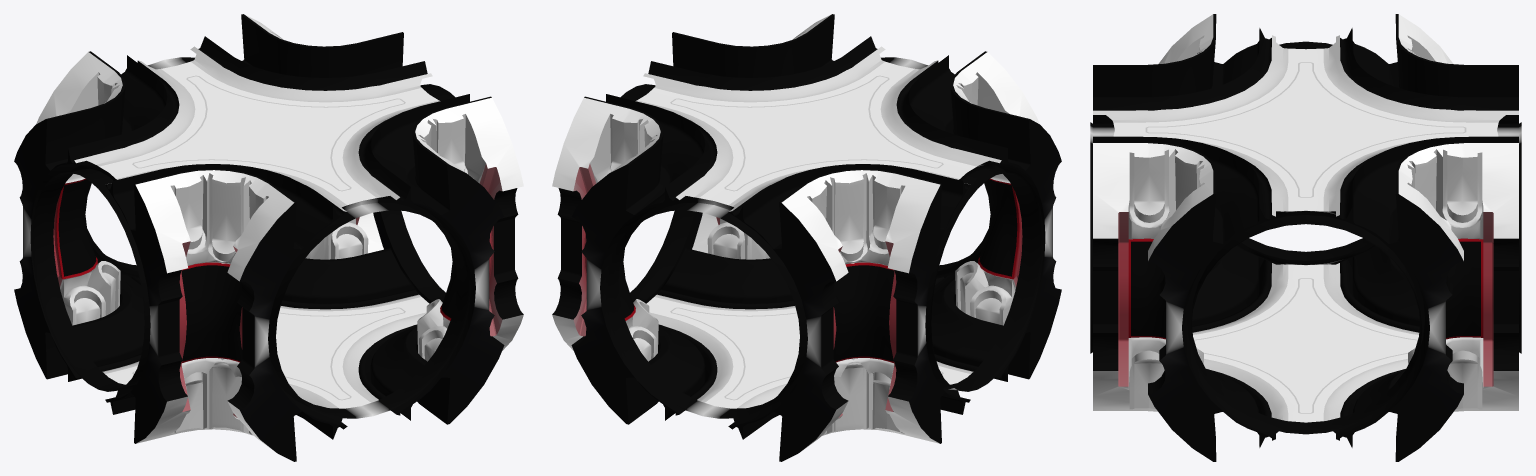
File: part_main-lod0.dae
The picture shows the model from 3 angles, left to right: view 1: azimuth 30°, elevation 25°; view 2: azimuth 150°, elevation 25°; view 3: azimuth 270°, elevation 25°; orthographic projection. The views are drawn at different scales.
Parts seen in each view (by area): view 1: part_main-lod0Xlod0Xp2genericXgen_p2_hulltextureaged_02, part_main-lod0Xlod0Xp2genericXgen_p2_hullpattern_01, part_main-lod0Xlod0Xp2genericXgen_p2_hulltexture_02_c, part_main-lod0Xlod0Xp2multimatXp2_multimat_01; view 2: part_main-lod0Xlod0Xp2genericXgen_p2_hulltextureaged_02, part_main-lod0Xlod0Xp2genericXgen_p2_hullpattern_01, part_main-lod0Xlod0Xp2genericXgen_p2_hulltexture_02_c, part_main-lod0Xlod0Xp2multimatXp2_multimat_01; view 3: part_main-lod0Xlod0Xp2genericXgen_p2_hulltextureaged_02, part_main-lod0Xlod0Xp2genericXgen_p2_hullpattern_01, part_main-lod0Xlod0Xp2genericXgen_p2_hulltexture_02_c, part_main-lod0Xlod0Xp2multimatXp2_multimat_01.
Part boxes in pixels (box(x1,y1,x2,y2)): part_main-lod0Xlod0Xp2genericXgen_p2_hulltextureaged_02: box(14, 14, 523, 434); part_main-lod0Xlod0Xp2genericXgen_p2_hullpattern_01: box(14, 14, 523, 461); part_main-lod0Xlod0Xp2genericXgen_p2_hulltexture_02_c: box(62, 55, 469, 439); part_main-lod0Xlod0Xp2multimatXp2_multimat_01: box(58, 179, 457, 361); part_main-lod0Xlod0Xp2genericXgen_p2_hulltextureaged_02: box(552, 14, 1061, 434); part_main-lod0Xlod0Xp2genericXgen_p2_hullpattern_01: box(552, 14, 1061, 461); part_main-lod0Xlod0Xp2genericXgen_p2_hulltexture_02_c: box(606, 55, 1013, 439); part_main-lod0Xlod0Xp2multimatXp2_multimat_01: box(618, 179, 1017, 361); part_main-lod0Xlod0Xp2genericXgen_p2_hulltextureaged_02: box(1090, 14, 1521, 459); part_main-lod0Xlod0Xp2genericXgen_p2_hullpattern_01: box(1093, 14, 1518, 461); part_main-lod0Xlod0Xp2genericXgen_p2_hulltexture_02_c: box(1093, 41, 1518, 446); part_main-lod0Xlod0Xp2multimatXp2_multimat_01: box(1131, 241, 1480, 337).
Bounding box in the file's own units: 32.39 × 22.22 × 32.39.
